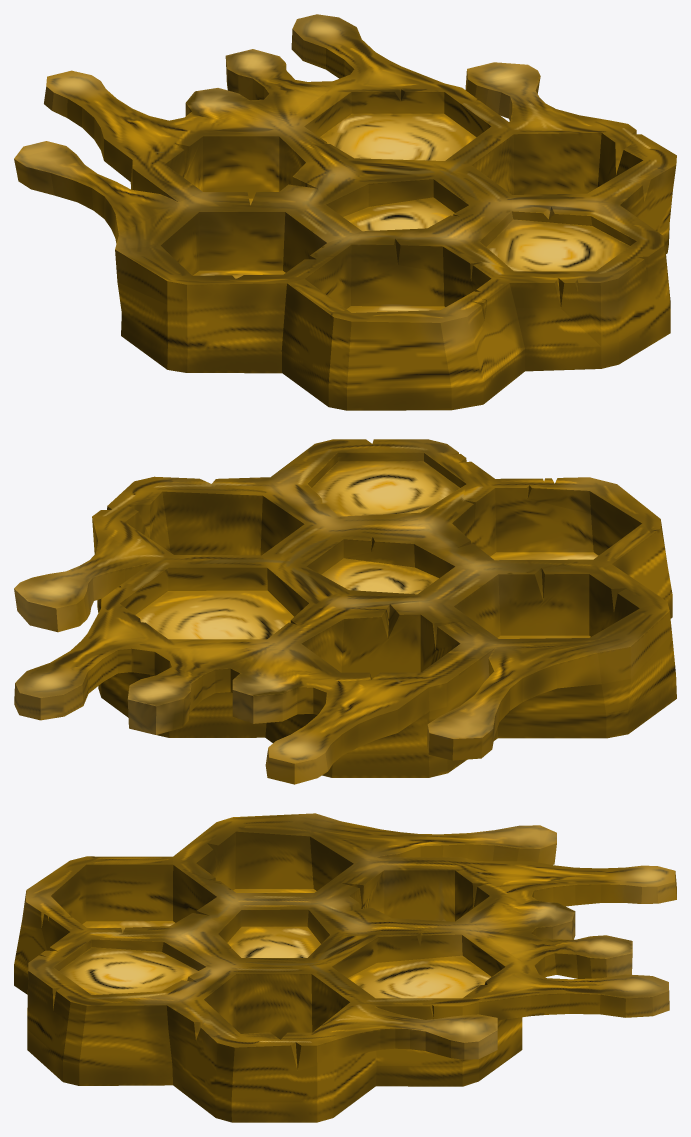
Rendered from UnityHonny.fbx.
The picture shows the model from 3 angles, top to bottom: view 1: azimuth 30°, elevation 25°; view 2: azimuth 150°, elevation 25°; view 3: azimuth 270°, elevation 25°; orthographic projection. The views are drawn at different scales.
Parts seen in each view (by area): view 1: HoneyComb.002; view 2: HoneyComb.002; view 3: HoneyComb.002.
Boxes of the visible parts, box(x1,y1,x2,y2) form: HoneyComb.002: box(14, 14, 676, 410); HoneyComb.002: box(14, 439, 676, 784); HoneyComb.002: box(14, 813, 676, 1122).
Bounding box in the file's own units: 295 × 47.68 × 353.
